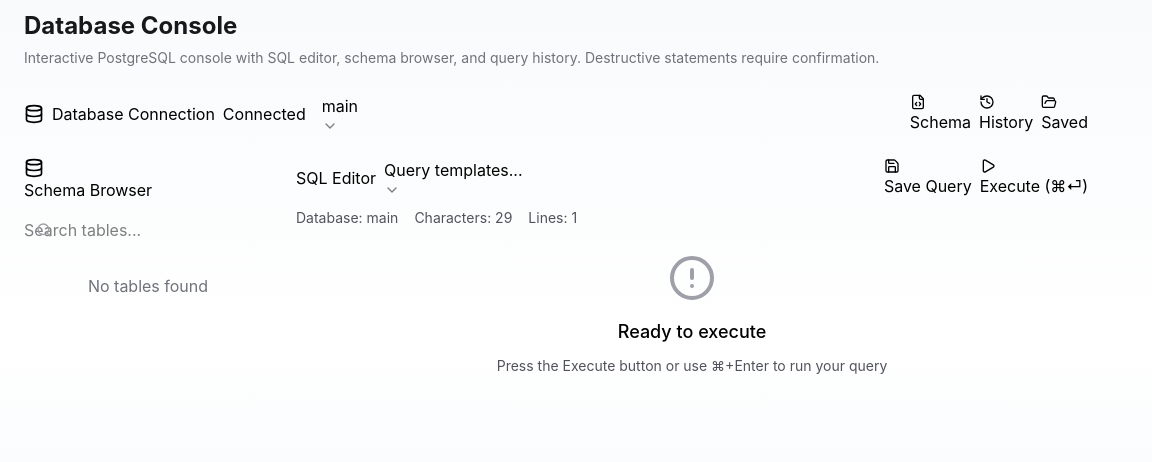
Test case: DatabaseConsolePage › can toggle query history sidebar
The image size is (1152, 462).
Expected: the button "History" is shown, left=979, top=94, right=1033, bottom=134
Note: First, hide the schema browser so history sidebar can appear
Click the button "Schema".
click(940, 114)  # box left=910, top=94, right=971, bottom=134
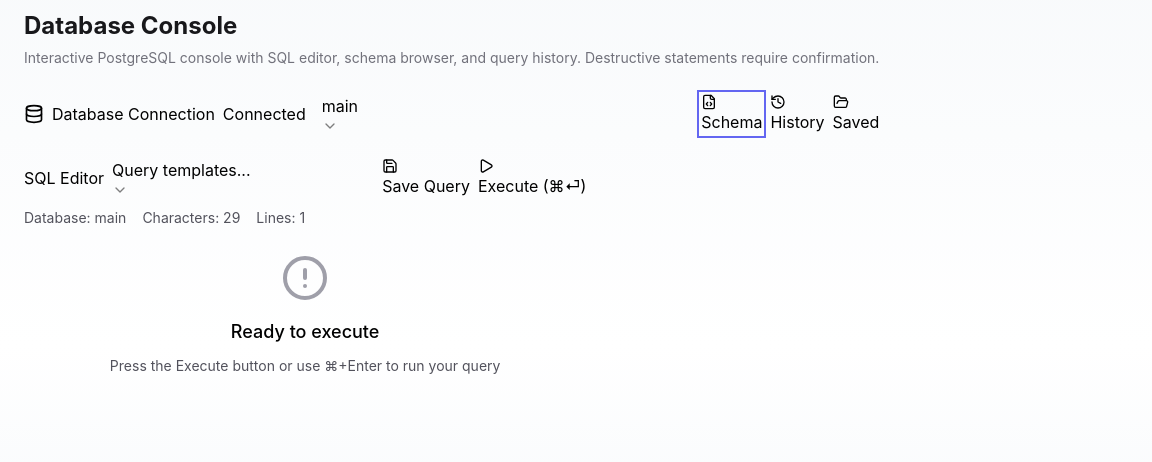
Note: Now click history
Click the button "History".
click(798, 114)  # box left=770, top=94, right=825, bottom=134
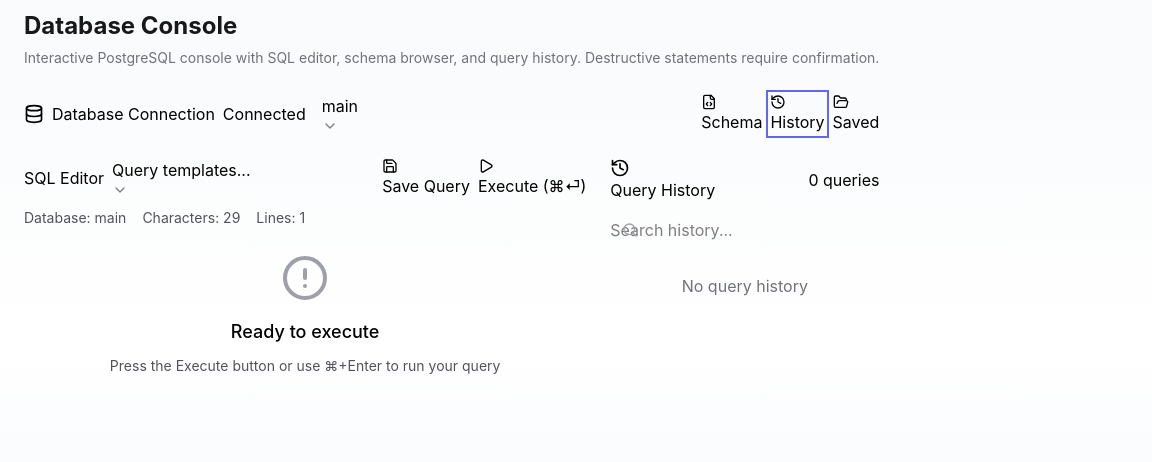
Expected: the heading "Query History" is shown, left=610, top=158, right=715, bottom=202
